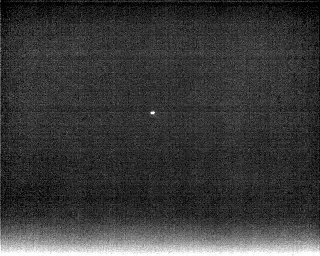BIRD: (148, 108, 157, 117)
